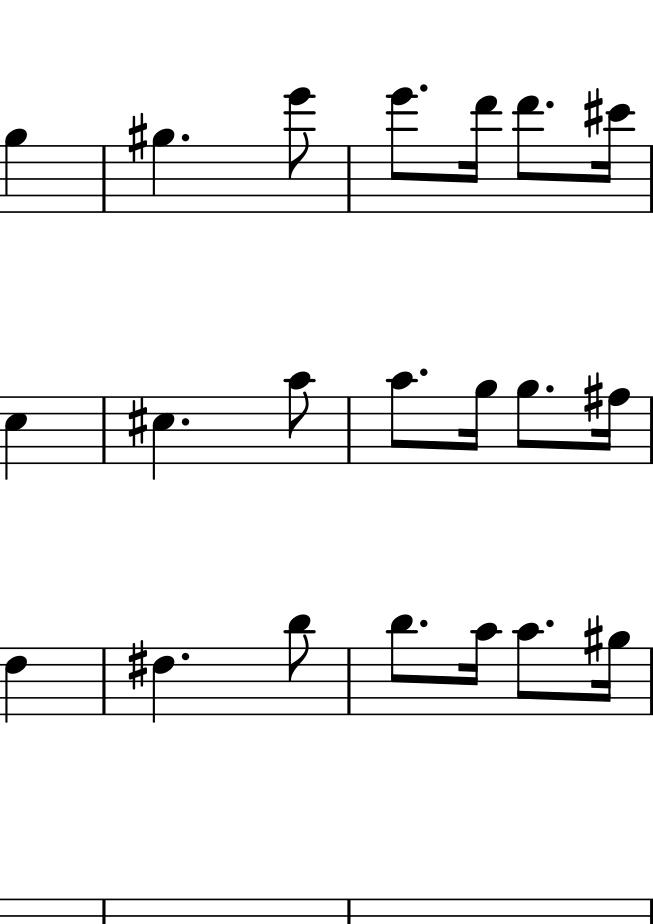16_10: (462, 620, 500, 718)
16_12: (596, 103, 636, 215)
16_13: (461, 95, 501, 216)
16_8: (594, 387, 629, 467)
16_9: (460, 378, 497, 465), (595, 630, 629, 719)
4_5: (2, 394, 28, 484), (151, 394, 176, 484)
4_6: (151, 645, 179, 726), (4, 644, 30, 726)
4_9: (3, 127, 31, 215), (151, 127, 175, 215)
8_10: (514, 621, 544, 718), (285, 370, 314, 469), (388, 371, 415, 466)
8_11: (387, 613, 417, 718), (285, 613, 315, 717)
8_13: (513, 94, 543, 217)
8_14: (285, 86, 316, 216), (388, 87, 419, 215)
8_9: (514, 379, 542, 467)
Sharp: (582, 85, 604, 141), (127, 638, 149, 692), (127, 396, 149, 449), (581, 613, 603, 665), (127, 110, 147, 165), (582, 369, 602, 421)
Single_barline: (340, 397, 358, 464), (340, 649, 358, 712), (341, 146, 357, 212), (96, 648, 111, 714), (96, 397, 111, 462), (97, 147, 111, 211), (642, 650, 653, 714), (643, 399, 653, 462), (644, 148, 653, 211)
dot: (543, 618, 556, 631), (179, 132, 191, 145), (180, 415, 191, 429), (418, 83, 430, 95), (418, 367, 430, 379), (180, 650, 191, 663), (418, 618, 429, 631), (544, 99, 555, 112), (544, 384, 555, 395)
